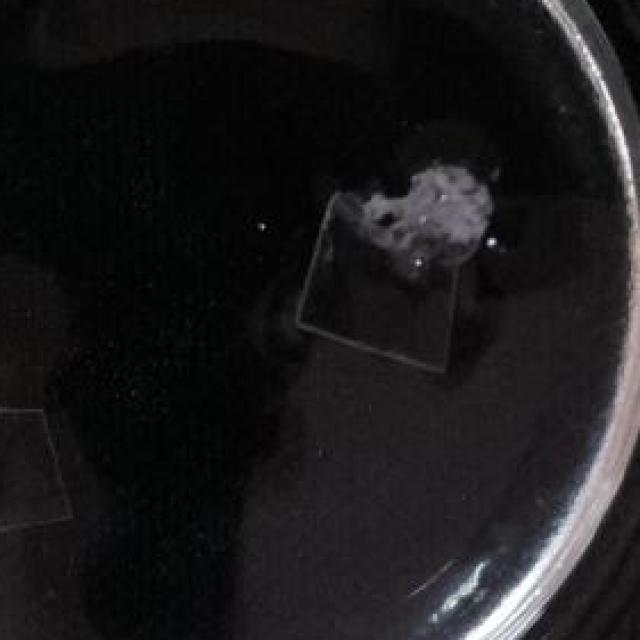Microplastic: (278, 169, 499, 392), (0, 402, 82, 550)
